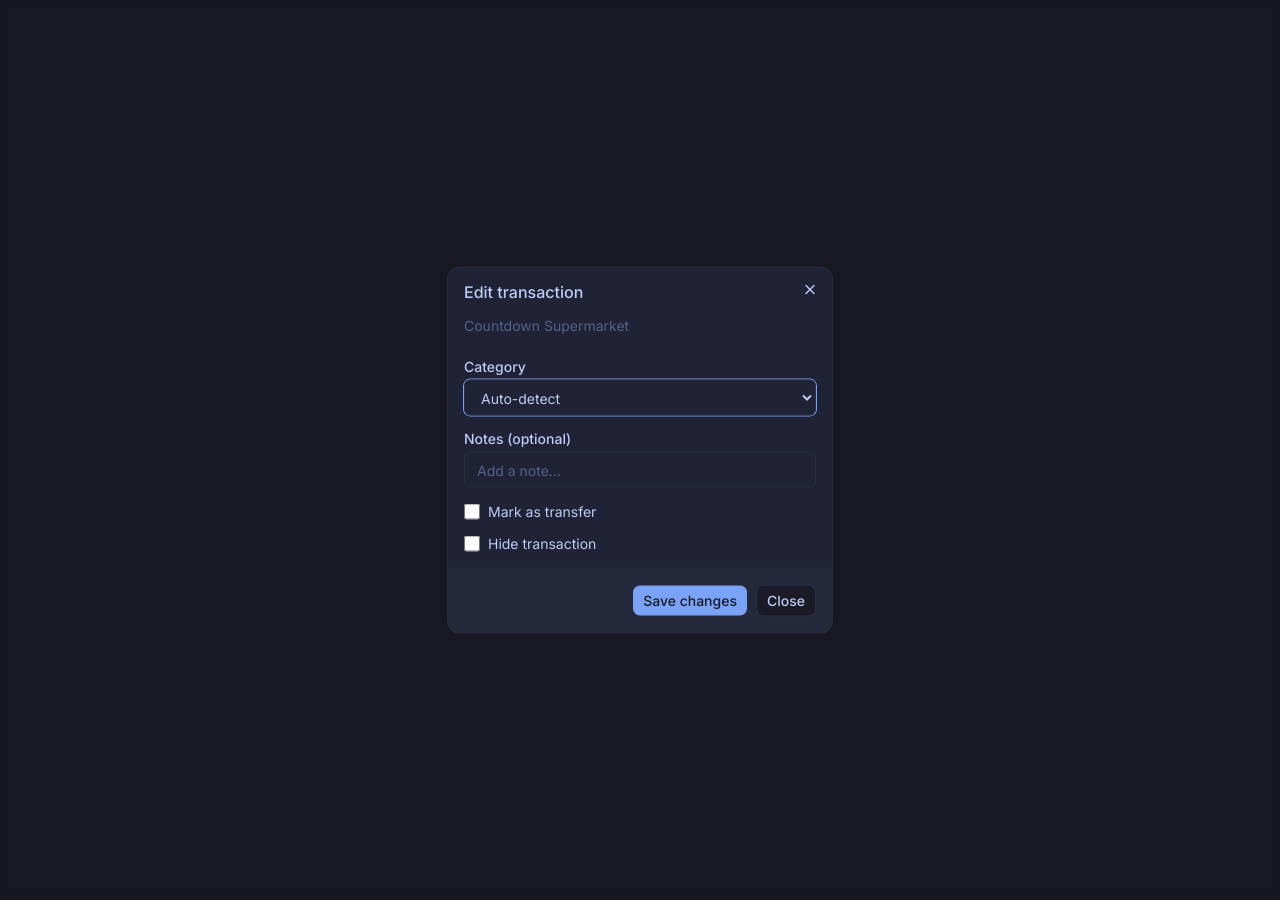
Scenario: TransactionEditDialog › shows the hidden warning after checking the isHidden checkbox
What coordinates should you click on to do the following:
click the checkbox labelled "Hide transaction"
I would click on:
 (472, 544)
Its box is [464,536,480,552].
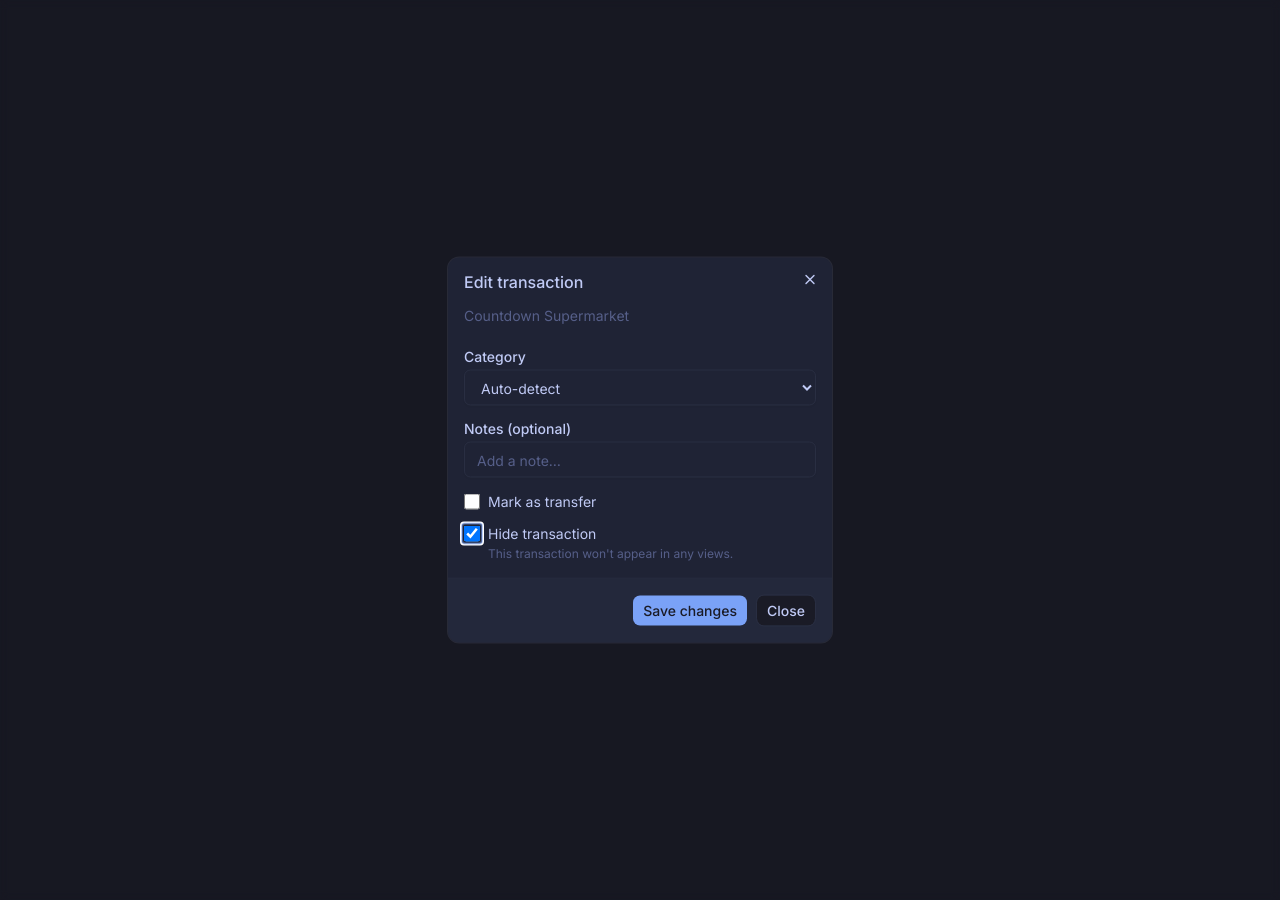
Expected: the text "This transaction won't appear in any views." is shown, [488,546,733,560]
